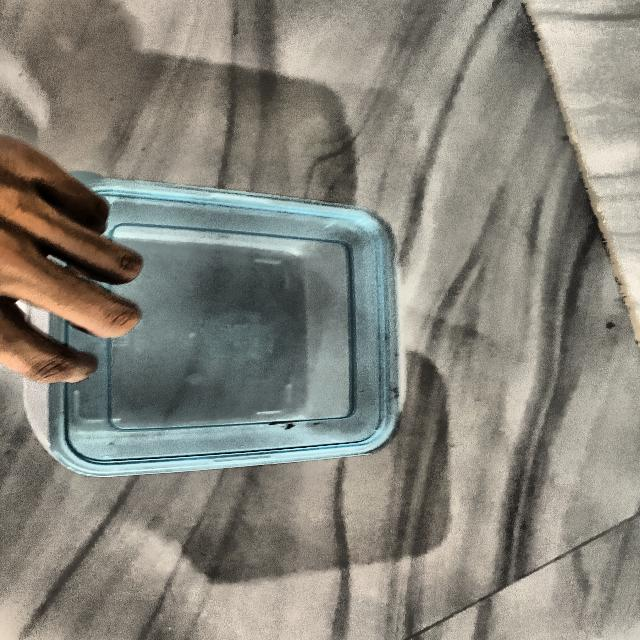plastic container: (43, 156, 410, 501)
